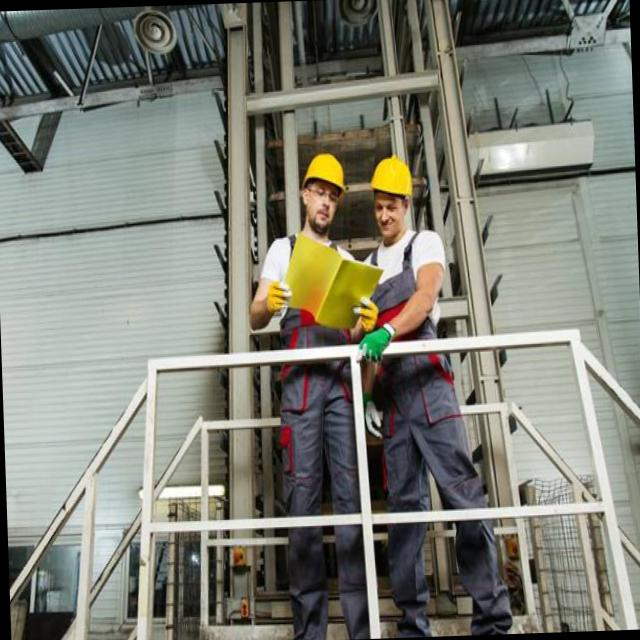helmet: (362, 148, 420, 242), (294, 144, 352, 228)
